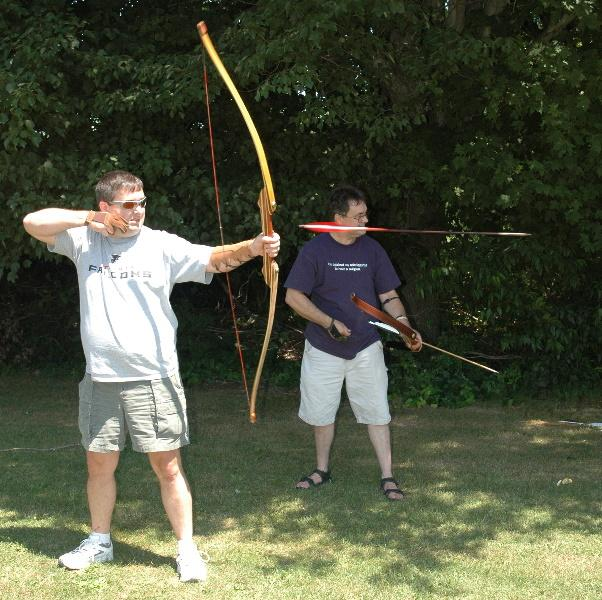person: (23, 172, 283, 582)
